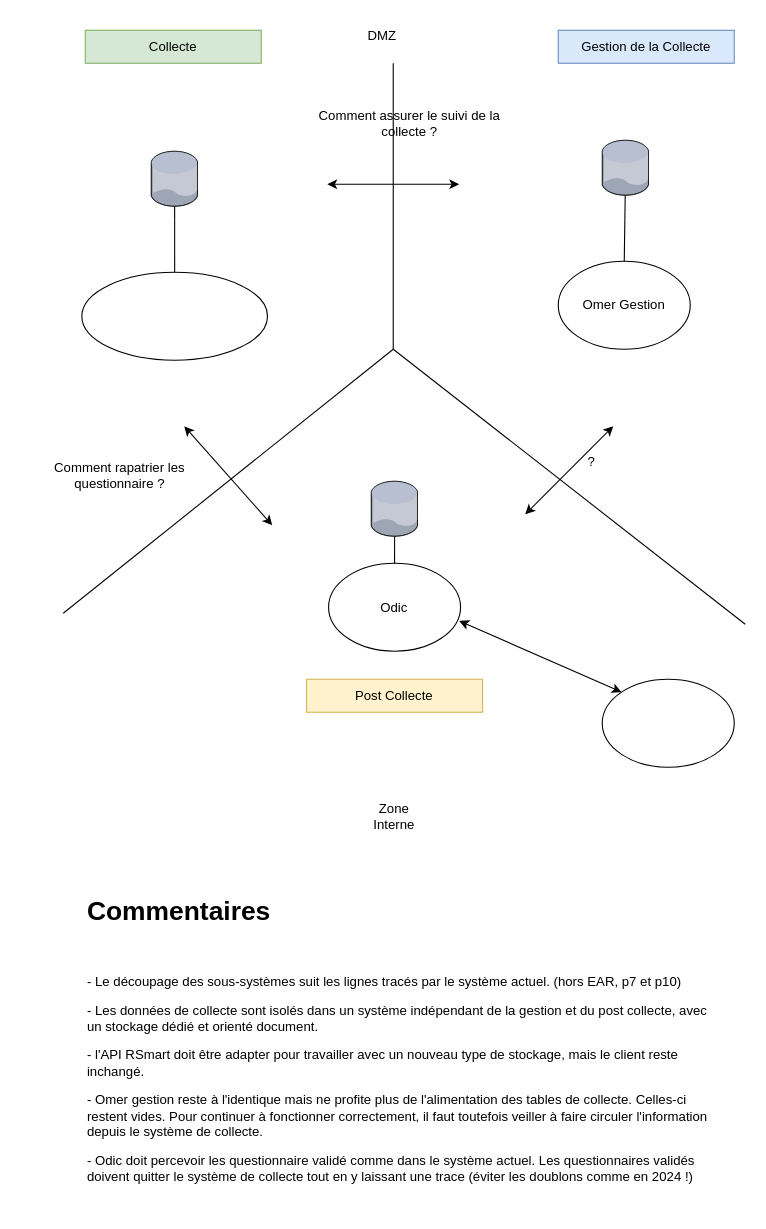
This 766x1229 diagram has some shape labels left out. Here are the shapes that lost their labels. From the top down, the box of each, then its label:
(81, 271, 268, 360): Système de Collecte
(601, 678, 734, 767): EAR, P7, P10, ...
